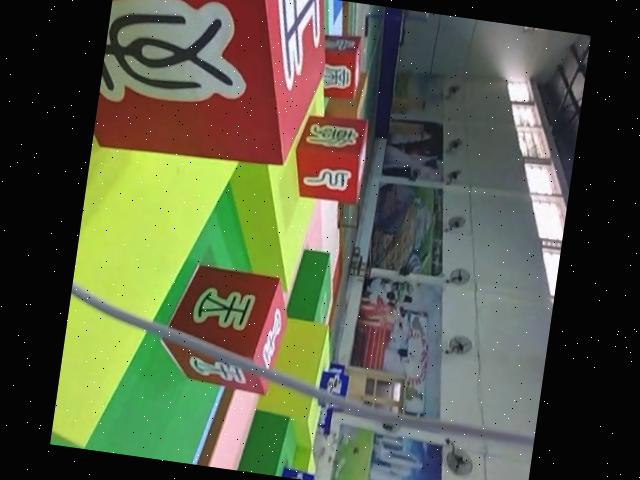R2 Fake: (91, 0, 338, 176), (289, 112, 372, 205), (314, 32, 365, 103)
R2 Real: (154, 261, 292, 398)
